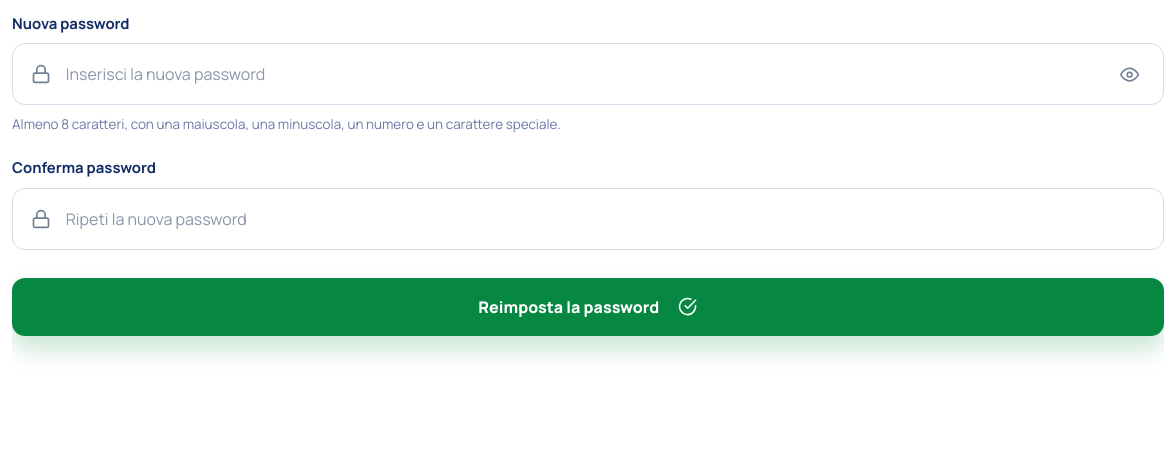
ResetPasswordForm › validazione prima della rete › blocca una password troppo debole senza chiamare il server
In the password field labelled "Nuova password": (583, 74) left=66, top=62, right=1100, bottom=86, type "password"
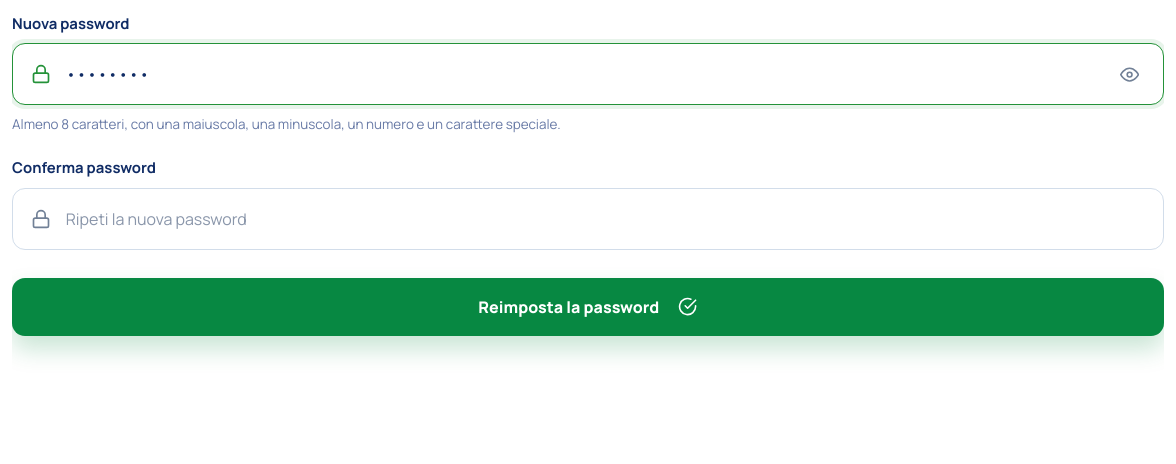
In the password field labelled "Conferma password": (605, 219) left=66, top=207, right=1145, bottom=231, type "password"
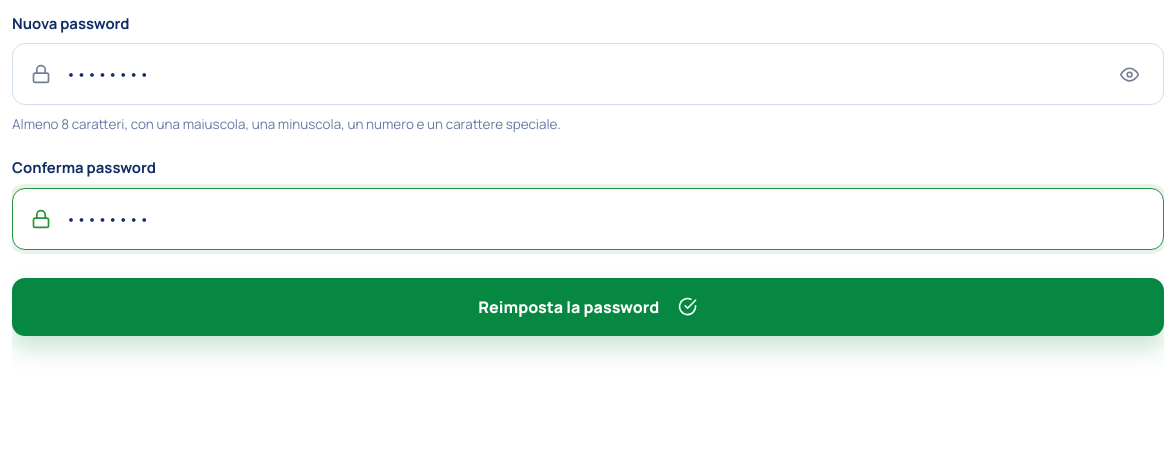
Click the button "Reimposta la password": (588, 306) left=12, top=278, right=1164, bottom=336
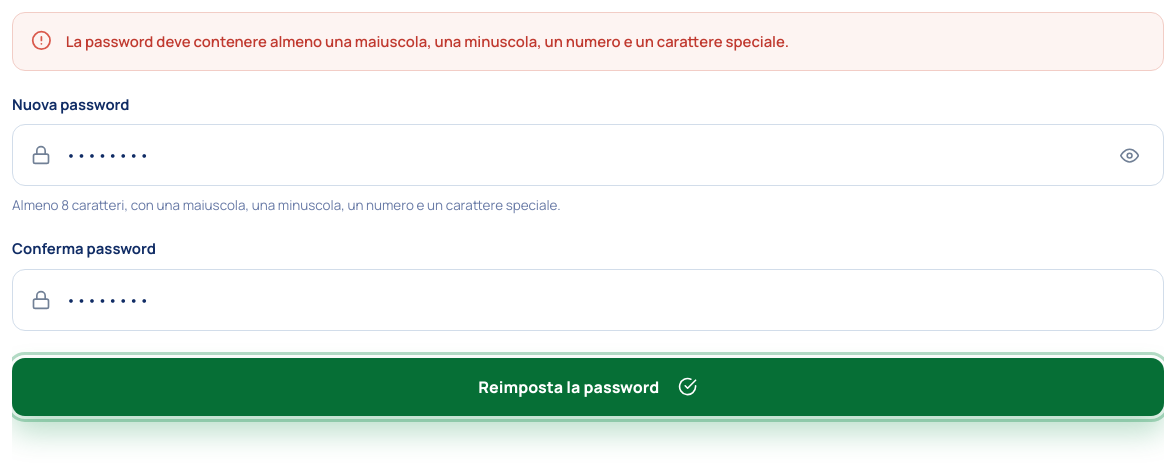
Now the message shows "maiuscola", box left=66, top=31, right=789, bottom=51
